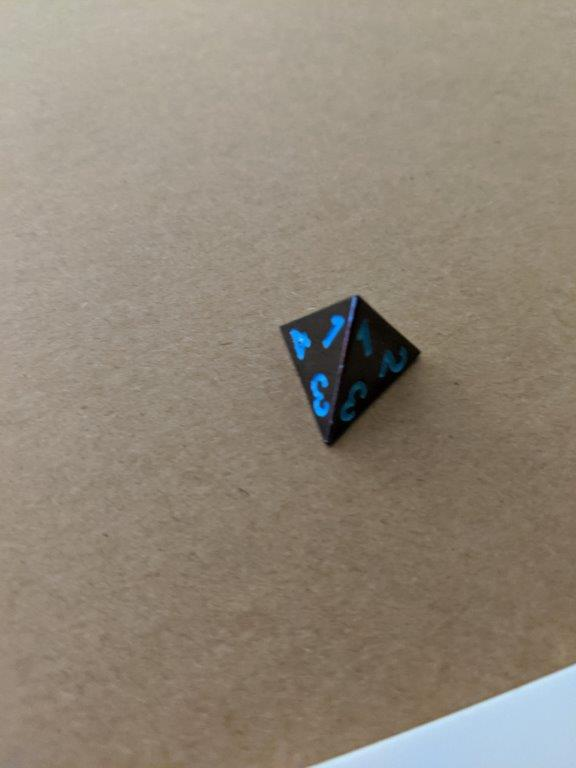d4-1: (270, 291, 422, 450)
